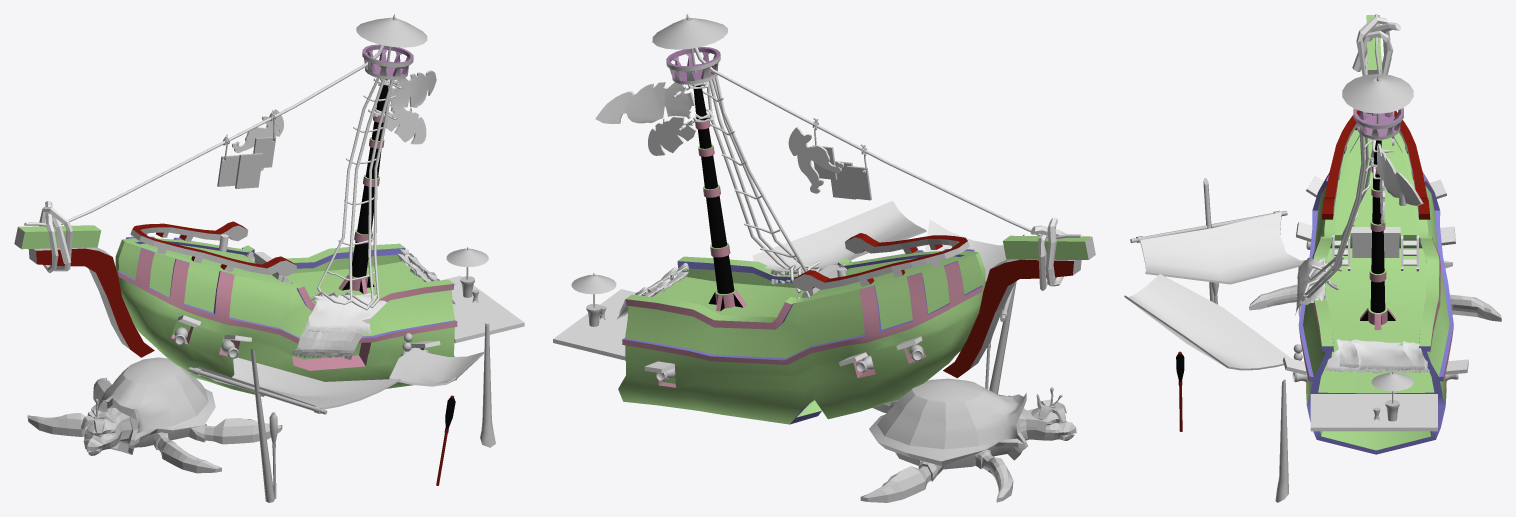
The model's file is BoatDEFV2.fbx.
The picture shows the model from 3 angles, left to right: view 1: azimuth 30°, elevation 25°; view 2: azimuth 150°, elevation 25°; view 3: azimuth 270°, elevation 25°; orthographic projection. The views are drawn at different scales.
Visible parts, largest first — view 1: Boat_Low002, turtlebody_low, vela1, pope, Barandilla, Box002, mastil, vela002, Sign, plano 2, velas, Cylinder044 (+15 smaller); view 2: Boat_Low002, turtlebody_low, vela002, pope, Barandilla, mastil, Hojav1, Box002, pope2, Cylinder006, Sign, Cylinder050 (+11 smaller); view 3: Boat_Low002, vela1, vela002, Box002, Barandilla, Cylinder006, mastil, turtlebody_low, plano 005, Knot_low002, top_down, Hojav1 (+12 smaller).
Part boxes in pixels (x1,y1,x2,y2): Boat_Low002: (115, 236, 457, 396); turtlebody_low: (27, 357, 282, 473); vela1: (198, 357, 400, 409); pope: (28, 247, 154, 357); Barandilla: (130, 221, 296, 276); Box002: (442, 275, 524, 343); mastil: (338, 79, 388, 293); vela002: (389, 347, 483, 386); Sign: (217, 110, 276, 188); plano 2: (306, 293, 376, 333); velas: (188, 349, 327, 502); Cylinder044: (290, 300, 386, 359); Boat_Low002: (618, 249, 985, 424); turtlebody_low: (860, 378, 1076, 502); vela002: (752, 201, 926, 270); pope: (943, 259, 1081, 378); Barandilla: (793, 233, 969, 291); mastil: (693, 85, 746, 311); Hojav1: (595, 82, 694, 123); Box002: (553, 289, 635, 360); pope2: (1003, 235, 1095, 259); Cylinder006: (652, 17, 727, 49); Sign: (812, 118, 871, 200); Cylinder050: (693, 47, 1081, 238); Boat_Low002: (1298, 114, 1453, 454); vela1: (1140, 212, 1304, 284); vela002: (1124, 274, 1291, 370); Box002: (1310, 394, 1437, 431); Barandilla: (1322, 110, 1430, 219); Cylinder006: (1342, 74, 1413, 113); mastil: (1360, 140, 1395, 330); turtlebody_low: (1249, 261, 1501, 321); plano 005: (1349, 339, 1412, 370); Knot_low002: (1352, 16, 1401, 75); top_down: (1353, 108, 1403, 139); Hojav1: (1377, 143, 1423, 205).
Bounding box in the file's own units: 2423 × 1970 × 1668.
